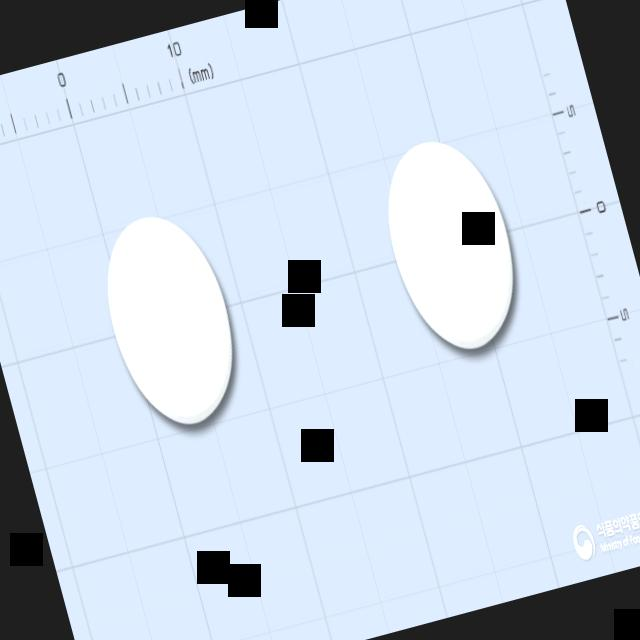Ilsung Augmentin - 625mg: (87, 200, 254, 438)
